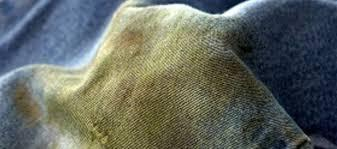earth: (62, 16, 230, 149)
